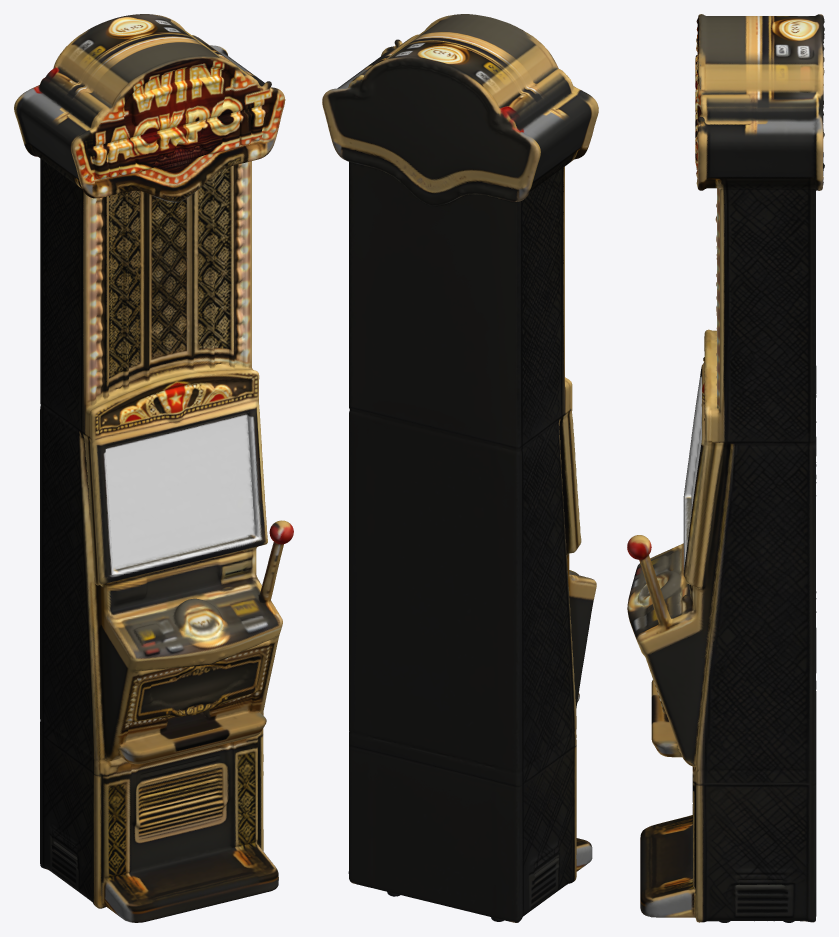
Rendered from slot.glb.
3 renders of one model, left to right at view 1: azimuth 30°, elevation 25°; view 2: azimuth 150°, elevation 25°; view 3: azimuth 270°, elevation 25°, orthographic. The views are drawn at different scales.
Parts seen in each view (by area): view 1: tripo_node_4613f495-1829-4a1c-87f7-cf854a3af989; view 2: tripo_node_4613f495-1829-4a1c-87f7-cf854a3af989; view 3: tripo_node_4613f495-1829-4a1c-87f7-cf854a3af989.
Part boxes in pixels (x1,y1,x2,y2): tripo_node_4613f495-1829-4a1c-87f7-cf854a3af989: [14, 14, 293, 922]; tripo_node_4613f495-1829-4a1c-87f7-cf854a3af989: [322, 14, 598, 922]; tripo_node_4613f495-1829-4a1c-87f7-cf854a3af989: [627, 14, 824, 922].
Size of the model in its own units: 0.2648 by 1 by 0.2061.
Materials: 1 (1 with a texture image).
